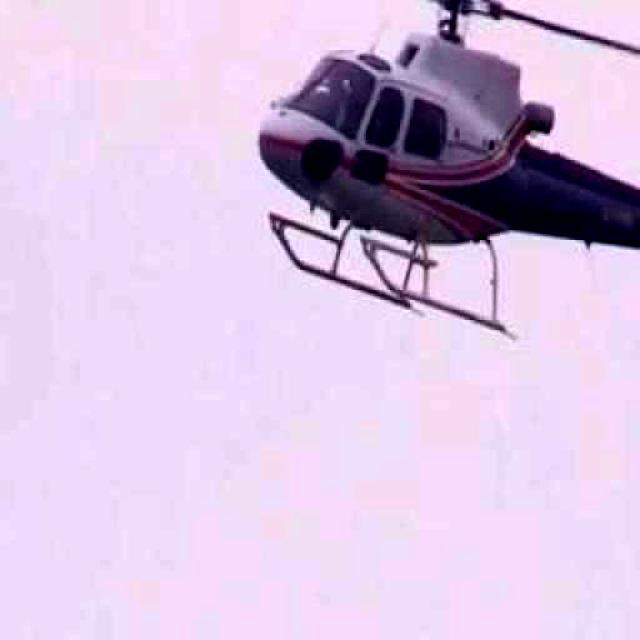drone: (130, 0, 640, 394)
